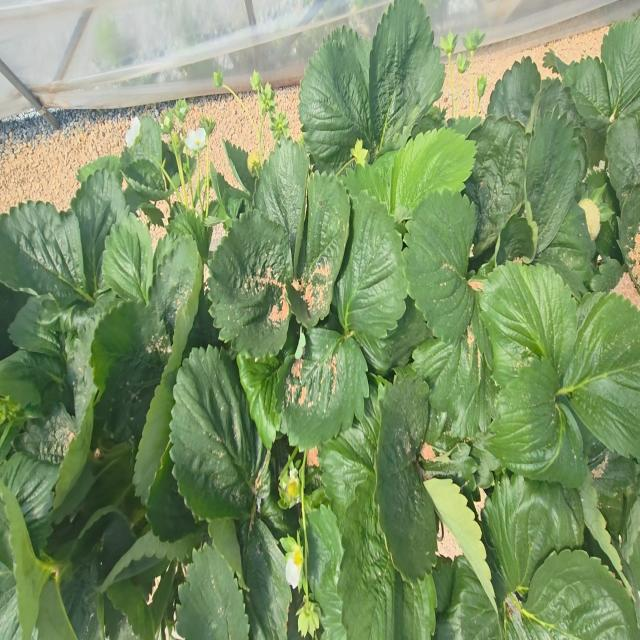Flowers: (282, 537, 303, 588), (280, 469, 299, 502), (185, 127, 206, 152), (126, 117, 140, 148), (173, 99, 189, 123), (161, 114, 173, 133)
Leaves: (170, 347, 269, 520), (338, 475, 436, 639), (556, 293, 640, 459), (481, 360, 587, 488), (92, 299, 174, 449), (208, 210, 292, 356), (480, 261, 577, 386), (377, 379, 437, 580), (482, 475, 584, 591), (368, 0, 444, 146), (335, 191, 407, 345), (404, 191, 475, 344), (281, 327, 369, 450), (522, 549, 640, 639), (299, 25, 370, 172), (285, 172, 349, 327), (423, 479, 496, 610), (465, 117, 529, 257), (0, 201, 85, 299), (526, 111, 584, 251), (71, 169, 129, 295), (393, 127, 476, 213), (176, 545, 249, 639), (242, 517, 291, 639), (535, 203, 595, 297), (254, 139, 309, 241), (0, 452, 59, 547), (436, 559, 501, 639), (150, 235, 199, 337), (102, 214, 154, 303), (147, 453, 199, 540), (319, 434, 371, 517), (237, 350, 280, 448), (557, 56, 612, 129), (0, 348, 66, 408), (601, 19, 640, 119), (488, 57, 541, 124), (341, 152, 396, 212), (9, 297, 64, 356), (605, 116, 640, 198), (167, 202, 212, 262), (121, 114, 162, 178), (208, 519, 244, 585), (122, 160, 171, 201), (497, 214, 534, 264), (224, 141, 255, 194)
Strawberries: (579, 198, 600, 240), (296, 599, 319, 637), (463, 29, 485, 55), (440, 31, 457, 64), (270, 113, 290, 141), (258, 84, 275, 116), (351, 139, 368, 167), (248, 149, 262, 176), (200, 116, 216, 136), (456, 54, 469, 73), (477, 75, 487, 98), (250, 71, 261, 91), (213, 69, 223, 86)
